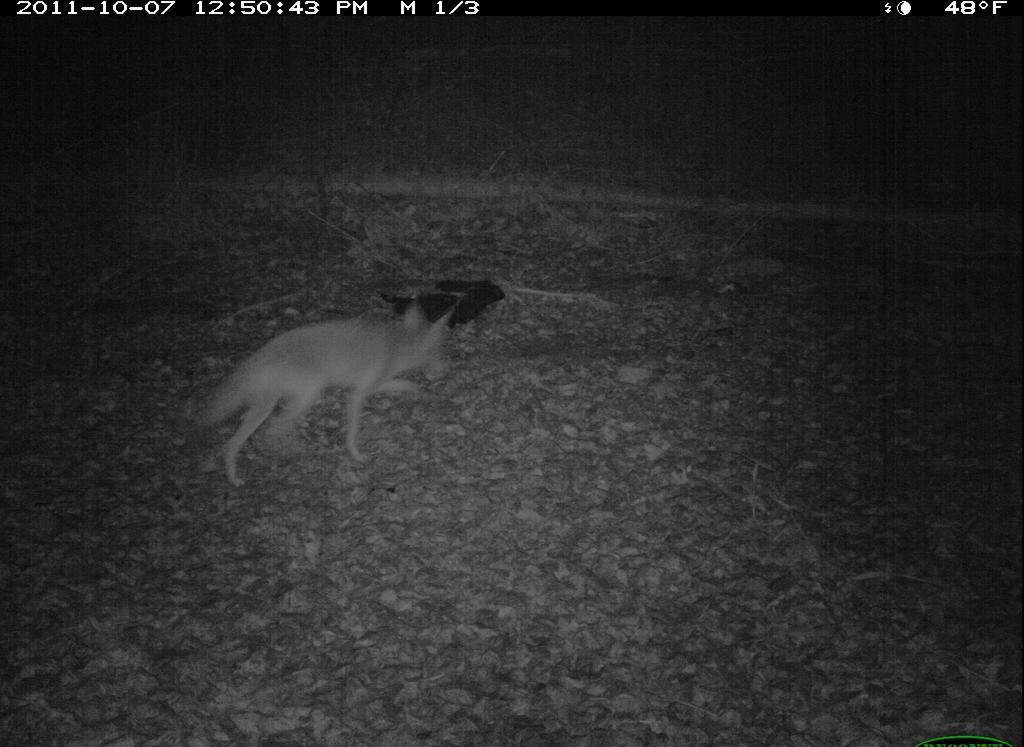coyote: (200, 291, 466, 488)
